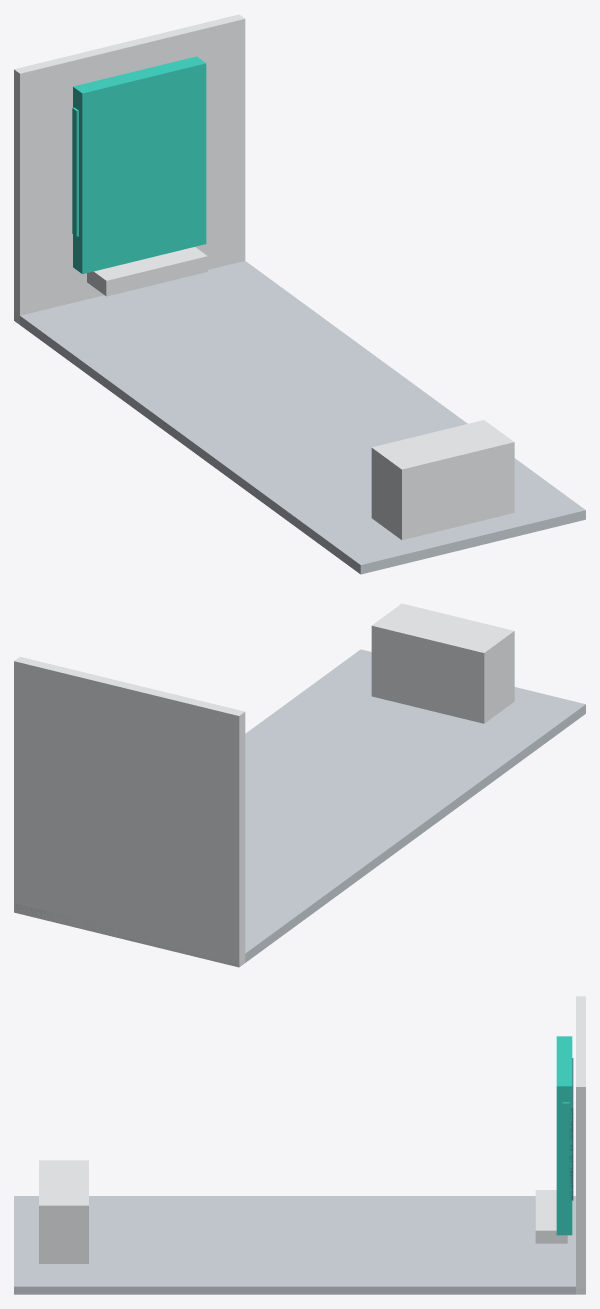
3 renders of one model, top to bottom at view 1: azimuth 30°, elevation 25°; view 2: azimuth 150°, elevation 25°; view 3: azimuth 270°, elevation 25°, orthographic. The views are drawn at different scales.
Visible parts, largest first — view 1: Exhibition Booth Concept; view 2: Exhibition Booth Concept; view 3: Exhibition Booth Concept.
Boxes of the visible parts, x1=… form: Exhibition Booth Concept: x1=14, y1=14, x2=585, y2=574; Exhibition Booth Concept: x1=14, y1=603, x2=585, y2=967; Exhibition Booth Concept: x1=14, y1=996, x2=585, y2=1294.
Bounding box in the file's own units: 3 × 3.2 × 8.
